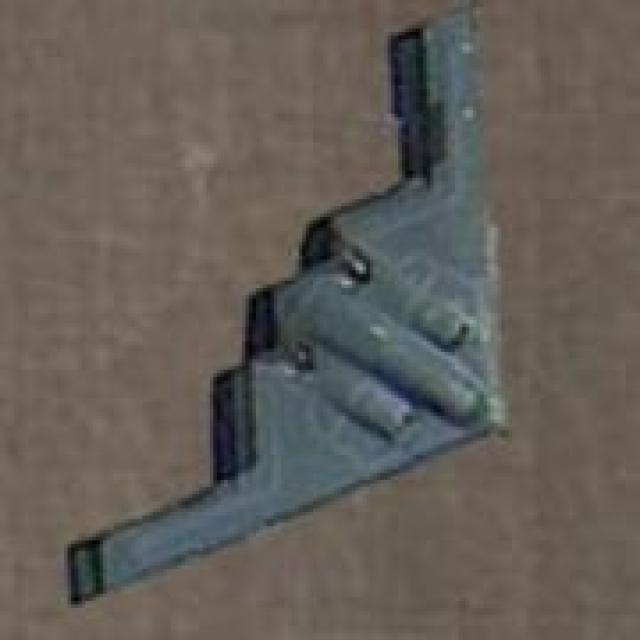B-2_TopDown: (61, 0, 516, 608)
